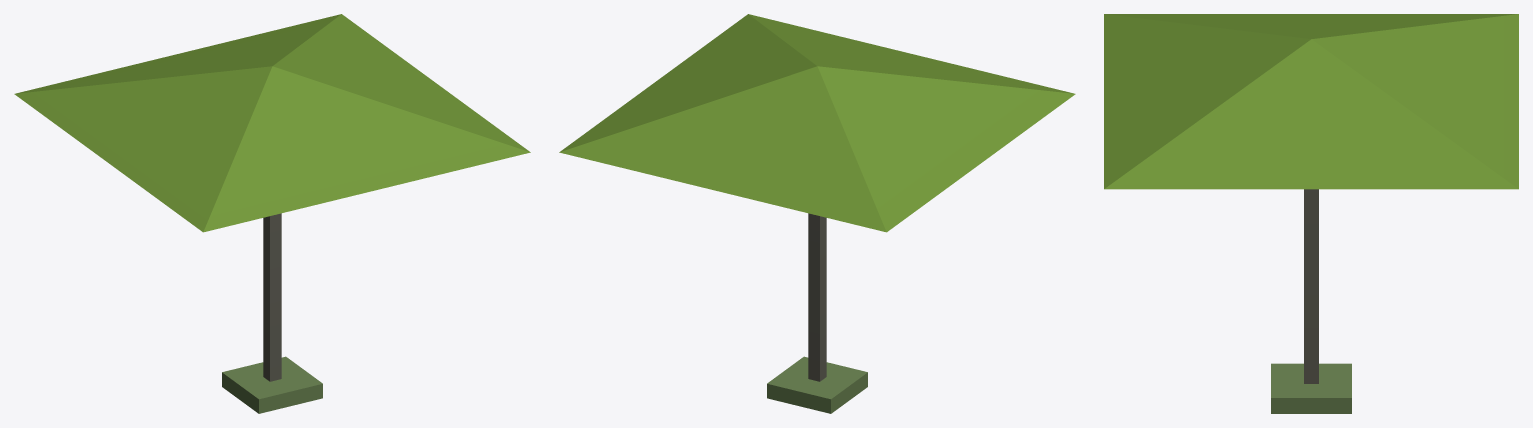
The model's file is Umbrella_03.fbx.
3 renders of one model, left to right at view 1: azimuth 30°, elevation 25°; view 2: azimuth 150°, elevation 25°; view 3: azimuth 270°, elevation 25°, orthographic. The views are drawn at different scales.
Visible parts, largest first — view 1: Umbrella_03; view 2: Umbrella_03; view 3: Umbrella_03.
Part boxes in pixels (left/top/right/bottom): Umbrella_03: left=14, top=14, right=530, bottom=413; Umbrella_03: left=559, top=14, right=1075, bottom=413; Umbrella_03: left=1104, top=14, right=1518, bottom=413.
Bounding box in the file's own units: 3 × 2.85 × 3.
